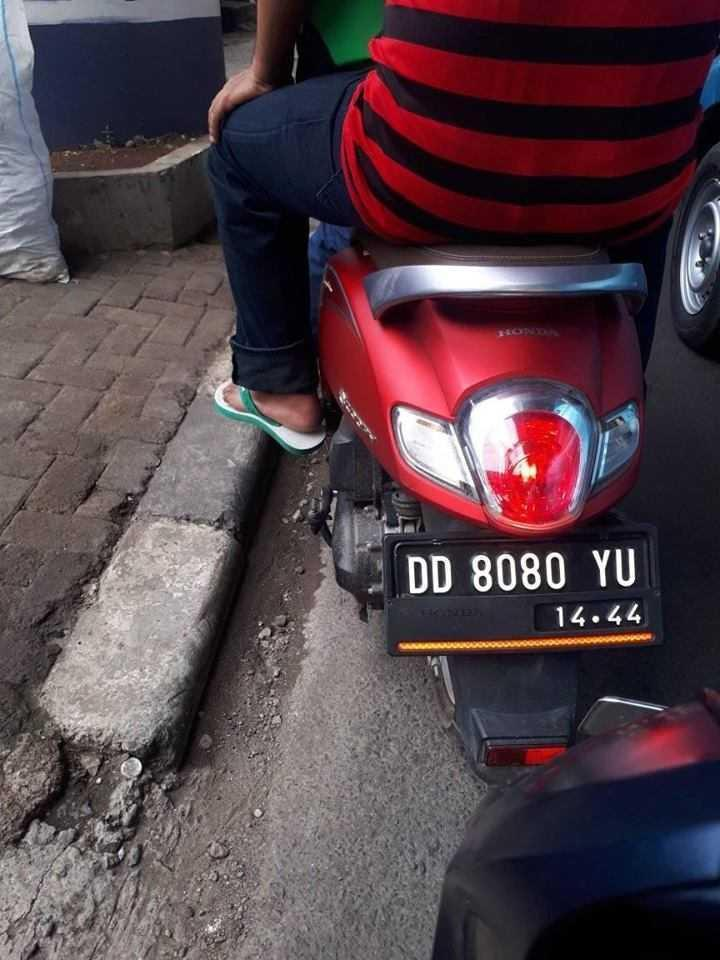clone-license-plate: (358, 514, 693, 667)
